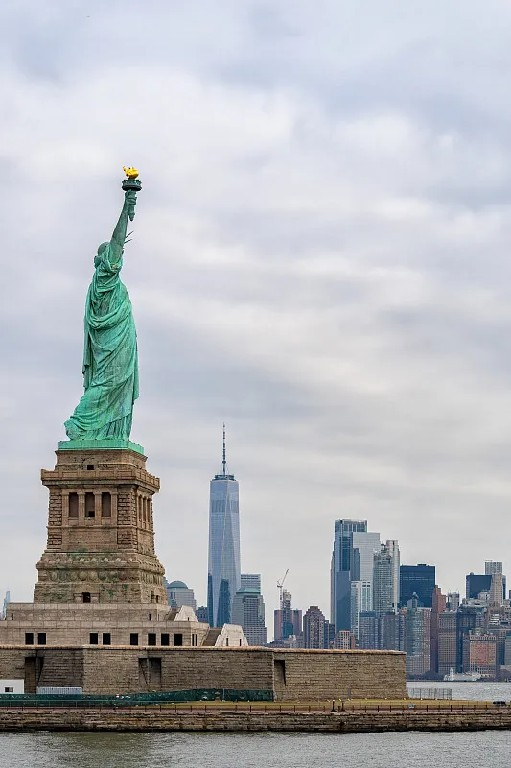SL: (34, 166, 168, 604)
